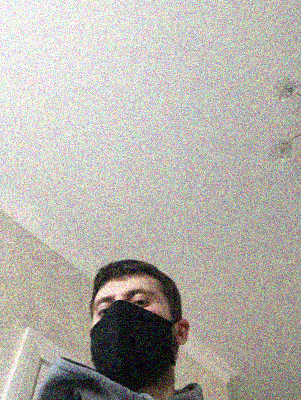with_mask: (90, 284, 172, 387)
